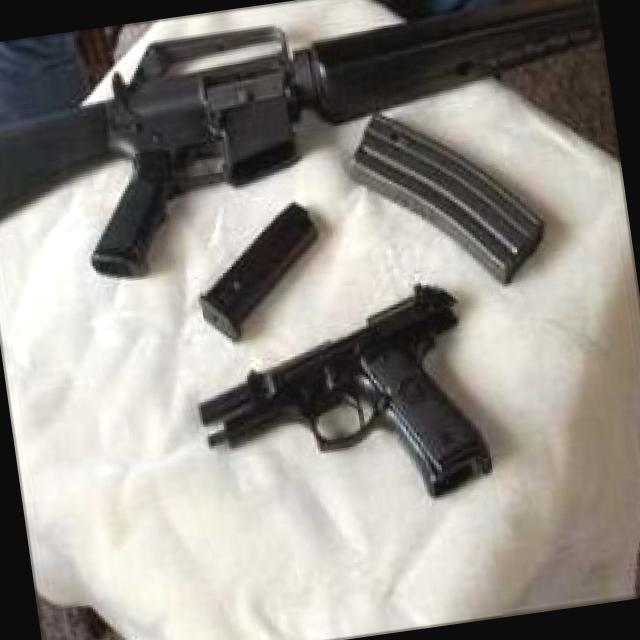handgun: (177, 284, 518, 530)
long weapon: (0, 0, 597, 295)
